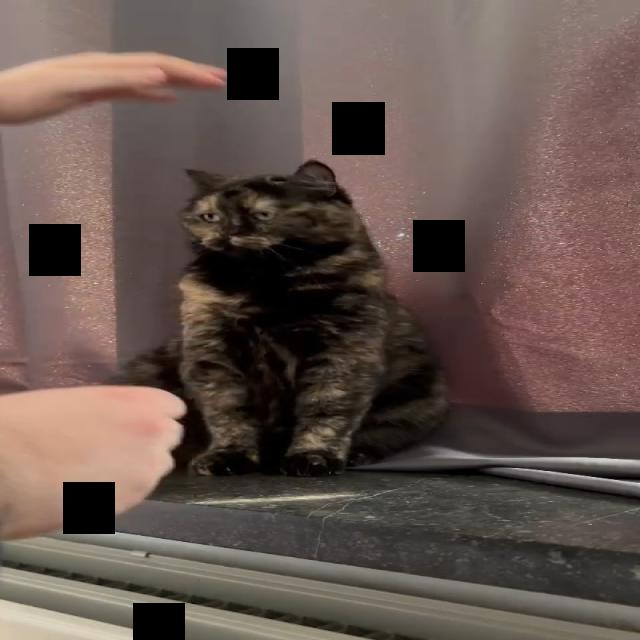authorized: (107, 158, 450, 477)
